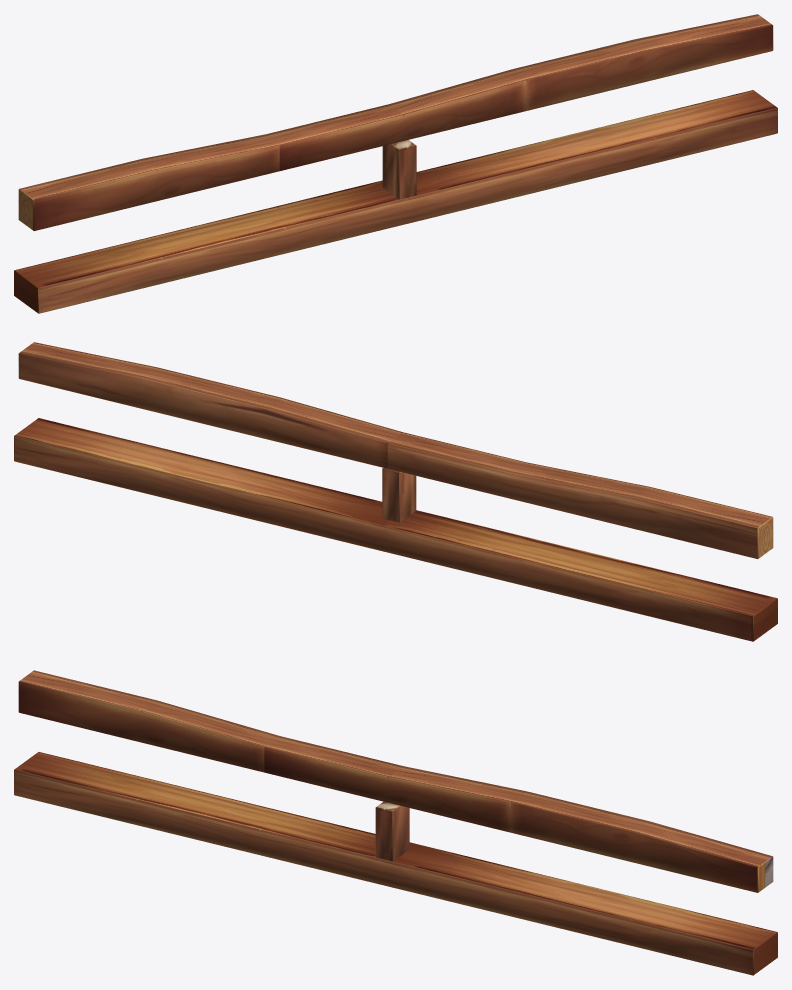
Rendered from low-rail-half.fbx.
3 renders of one model, top to bottom at view 1: azimuth 30°, elevation 25°; view 2: azimuth 150°, elevation 25°; view 3: azimuth 330°, elevation 25°, orthographic.
Visible parts, largest first — view 1: lowRailHalf; view 2: lowRailHalf; view 3: lowRailHalf.
Part boxes in pixels (x1,y1,x2,y2): lowRailHalf: (14,14,777,313); lowRailHalf: (14,342,777,641); lowRailHalf: (14,670,777,975).
Bounding box in the file's own units: 249 × 35.64 × 14.43.
1 material, 1 textured.
